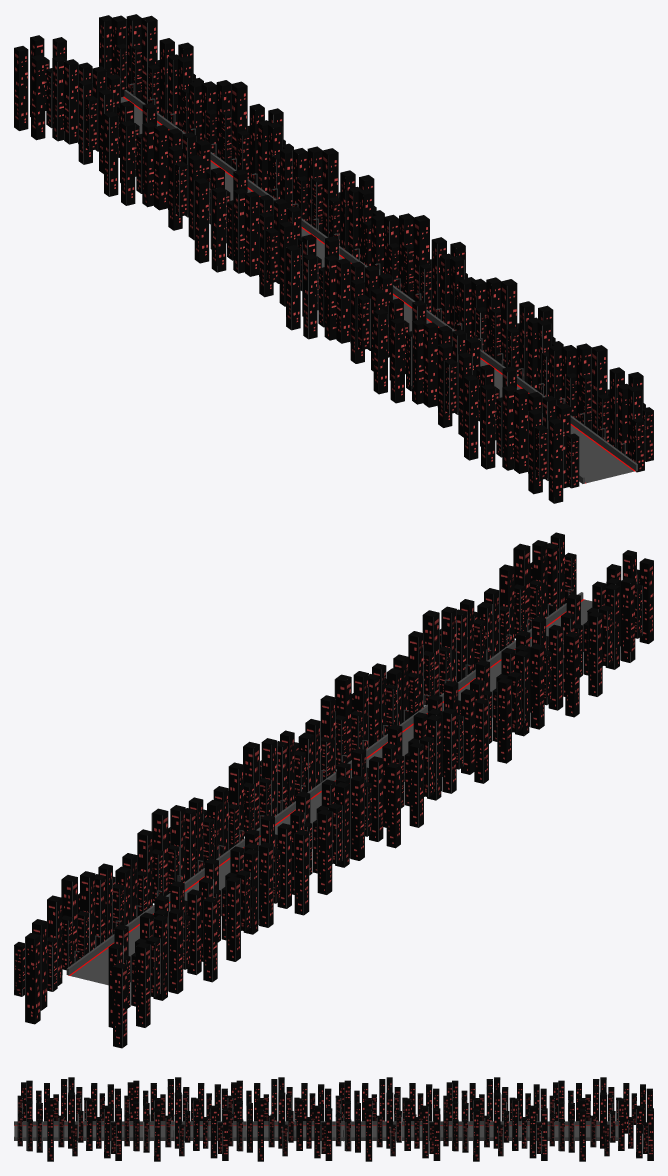
Rendered from Stage line.fbx.
3 views of the same model, one above another, from view 1: azimuth 30°, elevation 25°; view 2: azimuth 150°, elevation 25°; view 3: azimuth 270°, elevation 25° (orthographic). The views are drawn at different scales.
Parts seen in each view (by area): view 1: Stage1; view 2: Stage1; view 3: Stage1.
Boxes of the visible parts, <box> form: Stage1: <box>14,14,653,503</box>; Stage1: <box>14,532,653,1048</box>; Stage1: <box>14,1077,653,1161</box>.
Size of the model in its own units: 3393 by 3126 by 26440.
5 materials, 2 textured.
